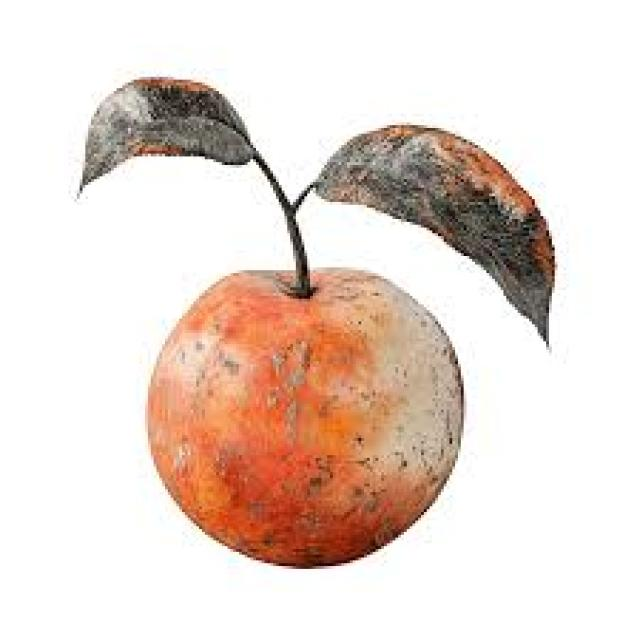Apple: (151, 269, 469, 568)
